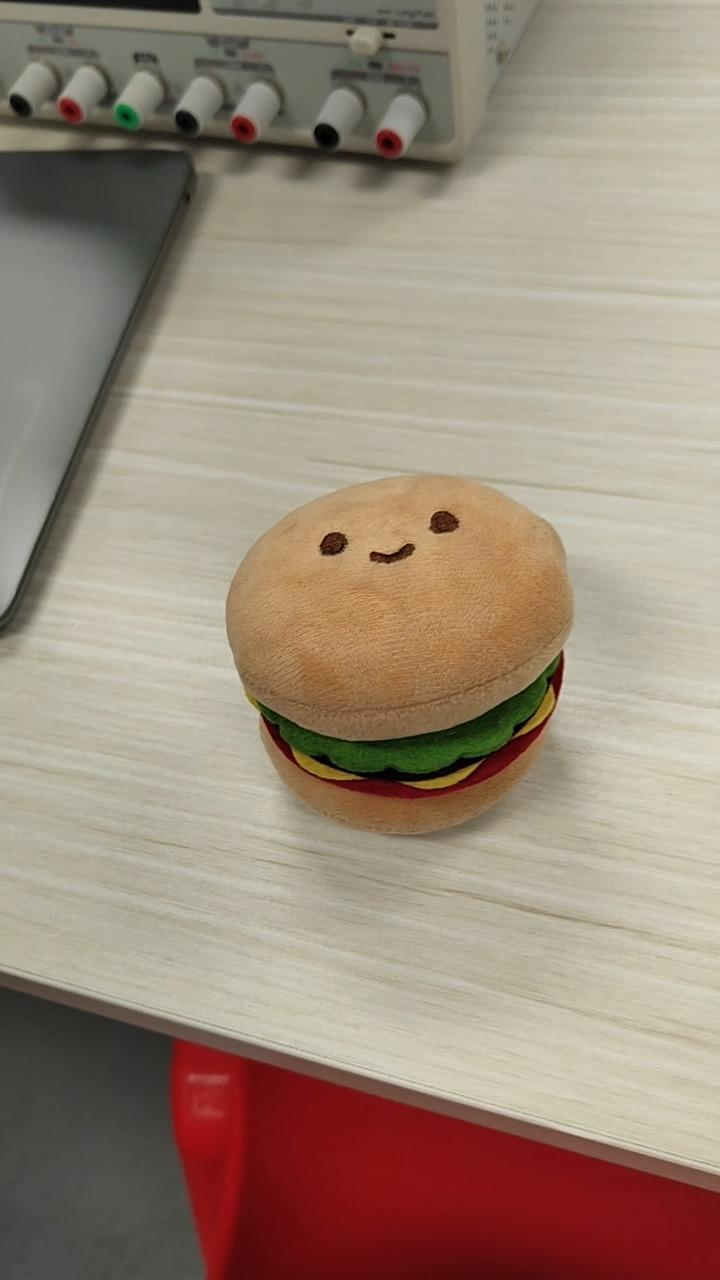hamburger: (223, 471, 574, 837)
